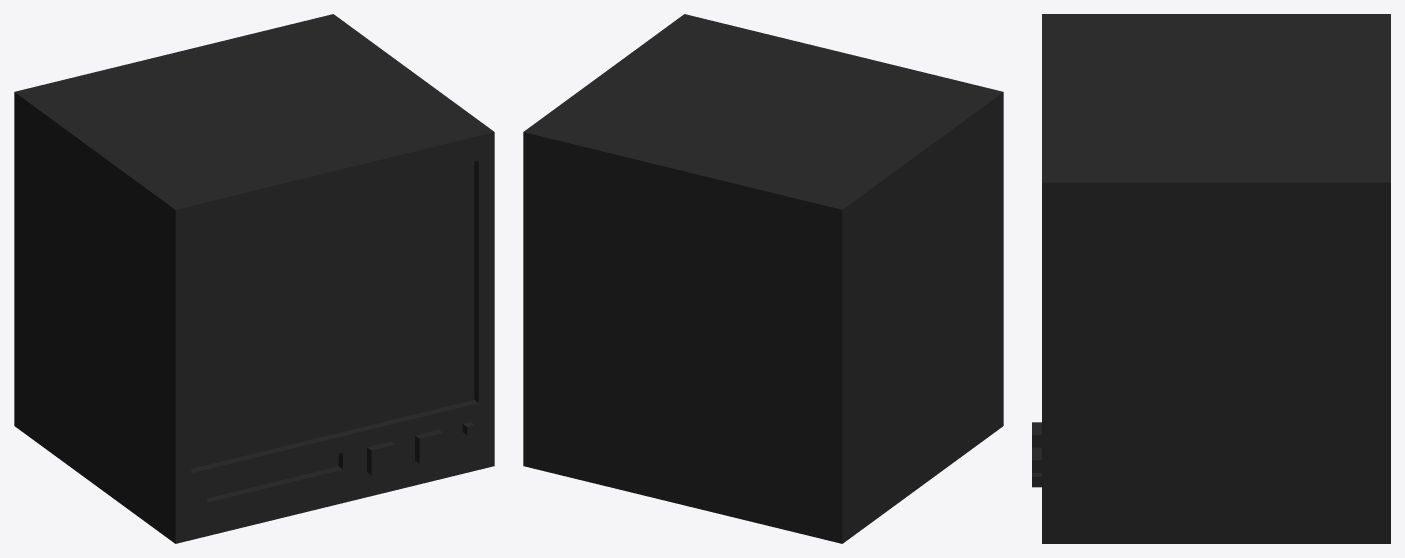
The picture shows the model from 3 angles, left to right: view 1: azimuth 30°, elevation 25°; view 2: azimuth 150°, elevation 25°; view 3: azimuth 270°, elevation 25°; orthographic projection. The views are drawn at different scales.
Visible parts, largest first — view 1: TV; view 2: TV; view 3: TV.
Part boxes in pixels (x1,y1,x2,y2): TV: (14, 14, 494, 543); TV: (523, 14, 1003, 543); TV: (1032, 14, 1390, 543).
Size of the model in its own units: 40 by 40 by 36.
1 material, 1 textured.
